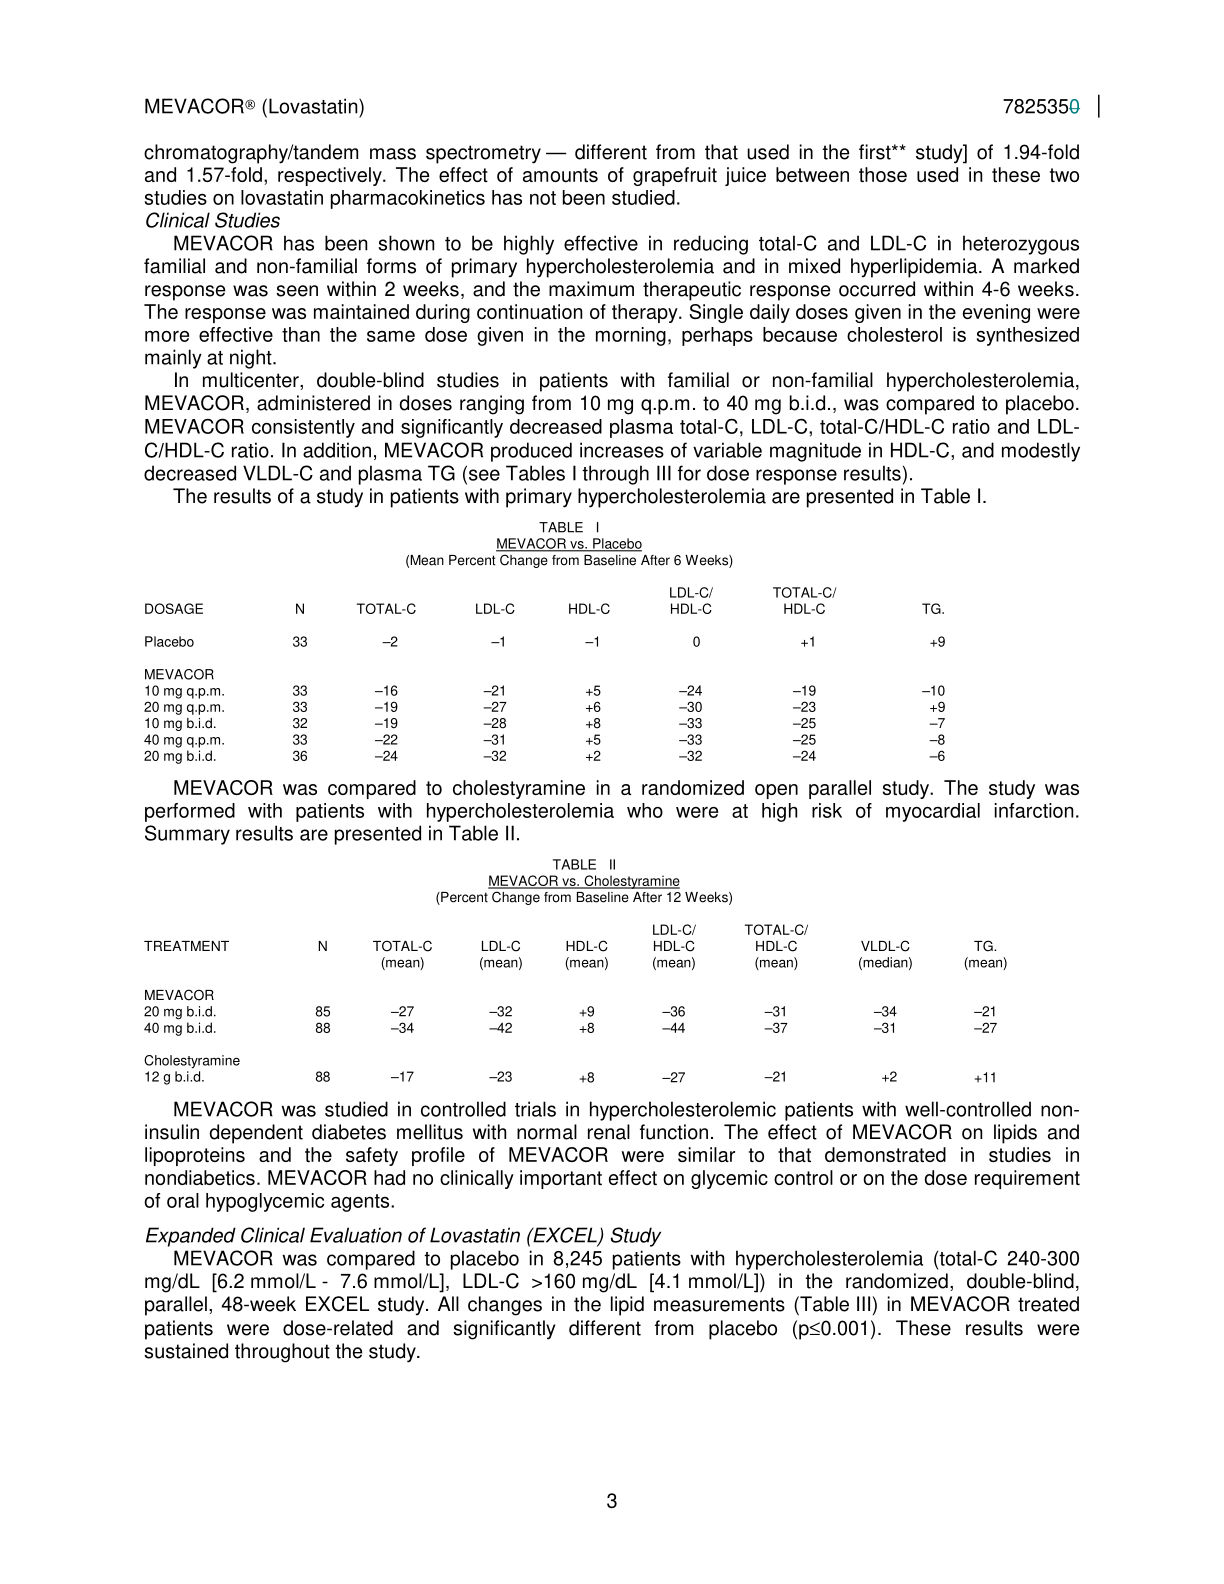nolines: (141, 584, 950, 764), (141, 921, 1009, 1086)
